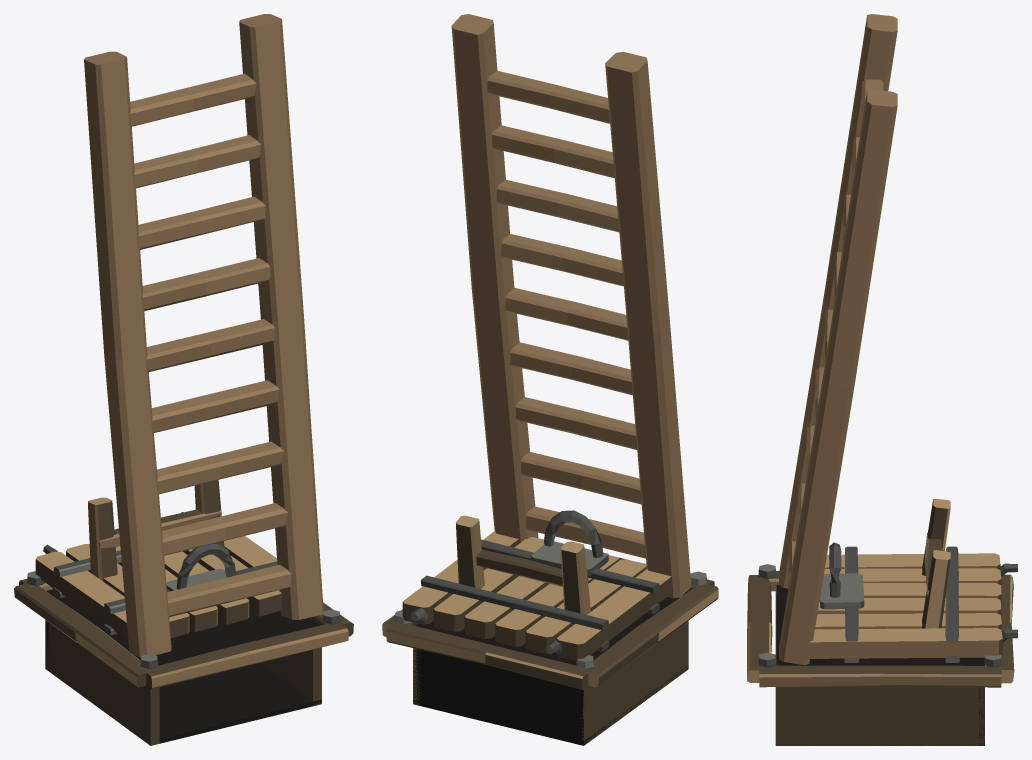
Rendered from cellar_traversal_pair_v2.glb.
The picture shows the model from 3 angles, left to right: view 1: azimuth 30°, elevation 25°; view 2: azimuth 150°, elevation 25°; view 3: azimuth 270°, elevation 25°; orthographic projection.
Visible parts, largest first — view 1: CellarLadderRuntimeMesh, SurfaceHatchStaticRuntimeMesh, SurfaceHatchLidRuntimeMesh; view 2: CellarLadderRuntimeMesh, SurfaceHatchStaticRuntimeMesh, SurfaceHatchLidRuntimeMesh; view 3: CellarLadderRuntimeMesh, SurfaceHatchStaticRuntimeMesh, SurfaceHatchLidRuntimeMesh.
Part boxes in pixels (x1=…): CellarLadderRuntimeMesh: x1=84, y1=14, x2=323, y2=657; SurfaceHatchStaticRuntimeMesh: x1=14, y1=480, x2=353, y2=745; SurfaceHatchLidRuntimeMesh: x1=35, y1=512, x2=281, y2=640; CellarLadderRuntimeMesh: x1=451, y1=14, x2=691, y2=598; SurfaceHatchStaticRuntimeMesh: x1=382, y1=515, x2=718, y2=745; SurfaceHatchLidRuntimeMesh: x1=402, y1=510, x2=673, y2=660; CellarLadderRuntimeMesh: x1=779, y1=14, x2=897, y2=664; SurfaceHatchStaticRuntimeMesh: x1=747, y1=499, x2=1014, y2=745; SurfaceHatchLidRuntimeMesh: x1=806, y1=542, x2=1017, y2=662.
Size of the model in its own units: 1.22 by 3.47 by 1.32.
